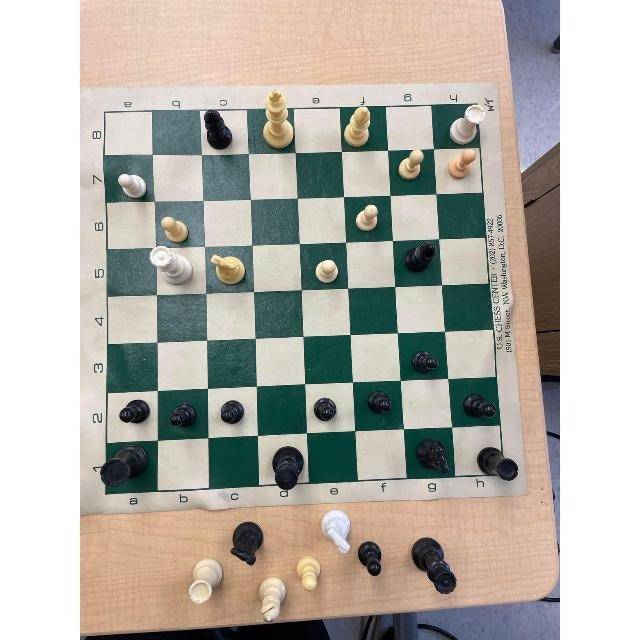black-bishop: (200, 109, 236, 153), (401, 238, 439, 277)
black-king: (272, 444, 306, 496)
black-knight: (411, 434, 452, 478)
black-pawn: (461, 389, 499, 425), (118, 394, 152, 431), (409, 346, 441, 378), (167, 402, 198, 432), (217, 395, 246, 427), (313, 393, 341, 424), (365, 385, 393, 416)
black-rook: (99, 442, 150, 492), (474, 442, 519, 487)
white-bishop: (342, 103, 375, 148)
white-king: (260, 88, 298, 152)
white-knight: (208, 249, 247, 286)
white-pawn: (443, 143, 479, 186), (396, 145, 426, 185), (117, 168, 151, 202), (160, 212, 193, 246), (354, 202, 383, 236), (313, 255, 341, 284)
white-queen: (146, 244, 198, 288)
white-rook: (448, 104, 488, 148)
